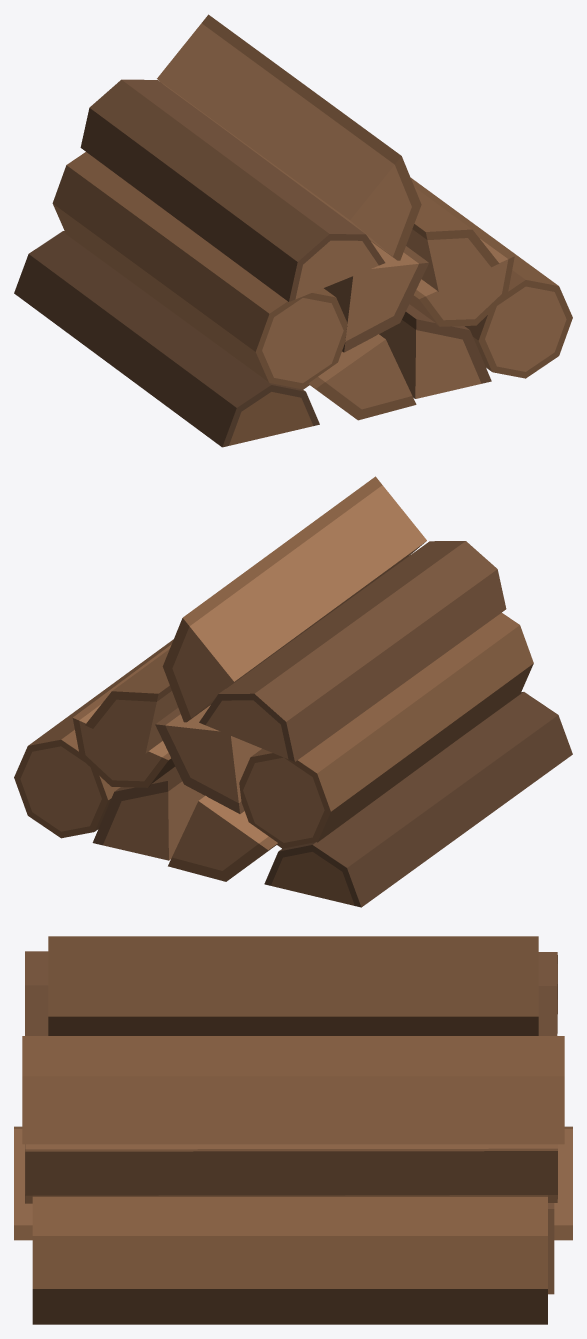
Rendered from Firewood_01.fbx.
The picture shows the model from 3 angles, top to bottom: view 1: azimuth 30°, elevation 25°; view 2: azimuth 150°, elevation 25°; view 3: azimuth 270°, elevation 25°; orthographic projection. The views are drawn at different scales.
Parts seen in each view (by area): view 1: Firewood_01_LOD0; view 2: Firewood_01_LOD0; view 3: Firewood_01_LOD0.
Boxes of the visible parts, <box> form: Firewood_01_LOD0: <box>14,14,572,447</box>; Firewood_01_LOD0: <box>14,476,572,907</box>; Firewood_01_LOD0: <box>14,936,572,1324</box>.
Size of what is drawn, in the model's own units: 0.3775 by 0.2519 by 0.4076.
